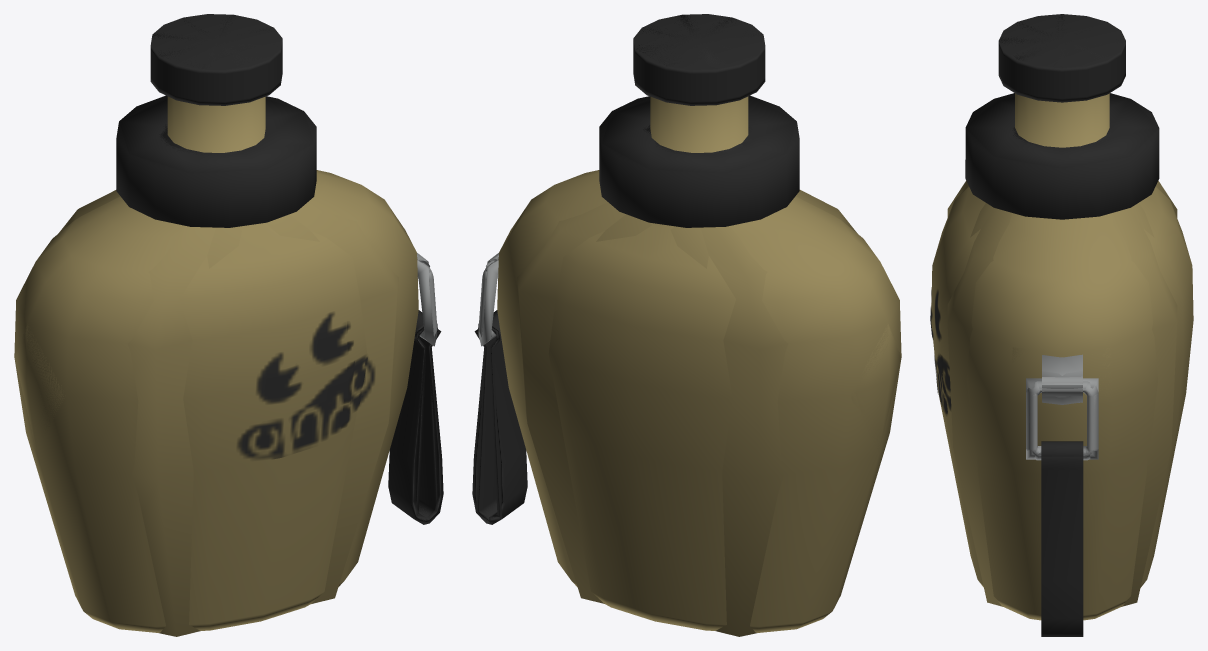
The model's file is pi_waterbottle05_02.gltf.
3 views of the same model, side by side, from view 1: azimuth 30°, elevation 25°; view 2: azimuth 150°, elevation 25°; view 3: azimuth 270°, elevation 25° (orthographic). The views are drawn at different scales.
Visible parts, largest first — view 1: um_pi_waterbottle05_02_model_lod0Shape:pi_waterbottle05_main, um_pi_waterbottle05_02_model_lod2Shape:pi_waterbottle05_main, um_pi_waterbottle05_02_model_lod1Shape:pi_waterbottle05_main, um_pi_waterbottle05_02_model_lod0Shape:pi_waterbottle05_alph; view 2: um_pi_waterbottle05_02_model_lod0Shape:pi_waterbottle05_main, um_pi_waterbottle05_02_model_lod2Shape:pi_waterbottle05_main, um_pi_waterbottle05_02_model_lod1Shape:pi_waterbottle05_main; view 3: um_pi_waterbottle05_02_model_lod0Shape:pi_waterbottle05_main, um_pi_waterbottle05_02_model_lod2Shape:pi_waterbottle05_main, um_pi_waterbottle05_02_model_lod1Shape:pi_waterbottle05_main, um_pi_waterbottle05_02_model_lod0Shape:pi_waterbottle05_alph.
Part boxes in pixels (x1,y1,x2,y2): um_pi_waterbottle05_02_model_lod0Shape:pi_waterbottle05_main: (14,14,443,632); um_pi_waterbottle05_02_model_lod2Shape:pi_waterbottle05_main: (58,143,441,636); um_pi_waterbottle05_02_model_lod1Shape:pi_waterbottle05_main: (14,15,437,521); um_pi_waterbottle05_02_model_lod0Shape:pi_waterbottle05_alph: (237,312,367,459); um_pi_waterbottle05_02_model_lod0Shape:pi_waterbottle05_main: (472,14,901,632); um_pi_waterbottle05_02_model_lod2Shape:pi_waterbottle05_main: (474,117,857,636); um_pi_waterbottle05_02_model_lod1Shape:pi_waterbottle05_main: (476,14,901,523); um_pi_waterbottle05_02_model_lod0Shape:pi_waterbottle05_main: (931,14,1193,636); um_pi_waterbottle05_02_model_lod2Shape:pi_waterbottle05_main: (947,160,1177,606); um_pi_waterbottle05_02_model_lod1Shape:pi_waterbottle05_main: (965,14,1158,458); um_pi_waterbottle05_02_model_lod0Shape:pi_waterbottle05_alph: (930,290,951,414).
Bounding box in the file's own units: 0.2433 × 0.3128 × 0.1423.
Materials: 2 (2 with a texture image).
